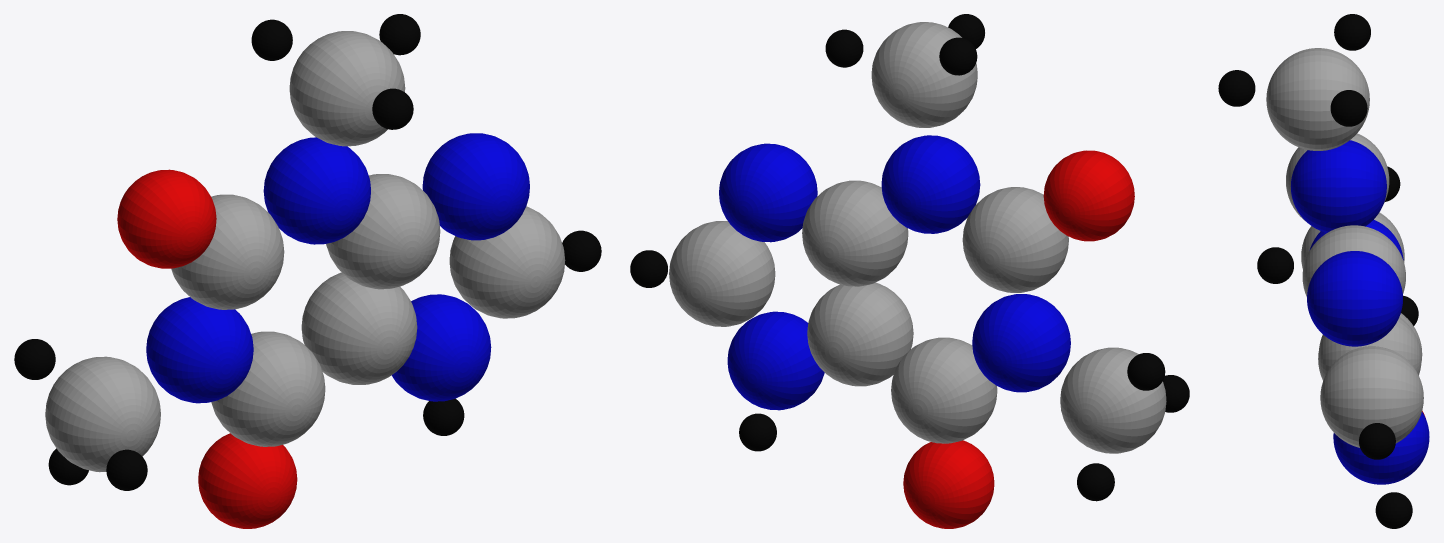
The model's file is Uric Acid.glb.
3 views of the same model, side by side, from view 1: azimuth 30°, elevation 25°; view 2: azimuth 150°, elevation 25°; view 3: azimuth 270°, elevation 25° (orthographic). The views are drawn at different scales.
Parts seen in each view (by area): view 1: world; view 2: world; view 3: world.
Part boxes in pixels (x1,y1,x2,y2): world: (14,14,601,528); world: (630,14,1189,528); world: (1218,14,1429,528).
Bounding box in the file's own units: 8.09 × 6.85 × 2.85.
